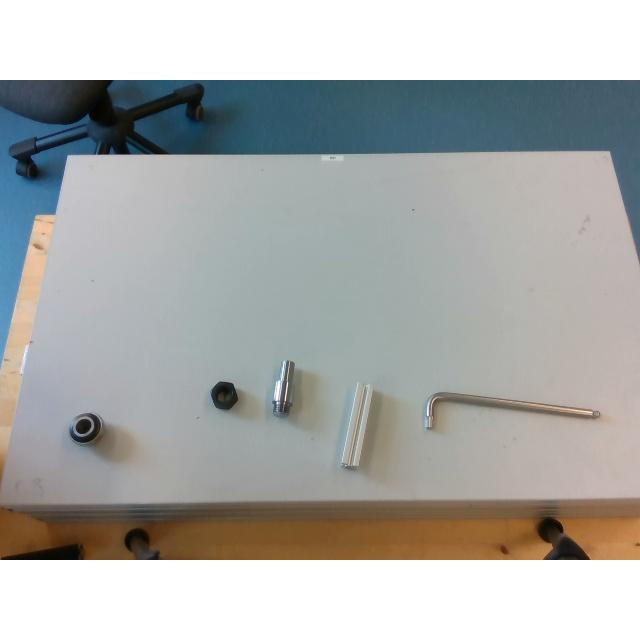AllenKey: (424, 392, 600, 428)
Axis2: (270, 359, 294, 417)
Bearing2: (69, 413, 101, 443)
F20_20_G: (340, 382, 372, 466)
M20: (210, 381, 238, 409)
